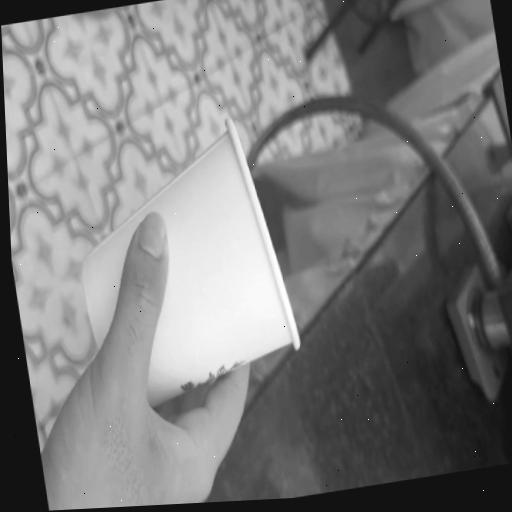Ly_giay: (82, 119, 299, 407)
